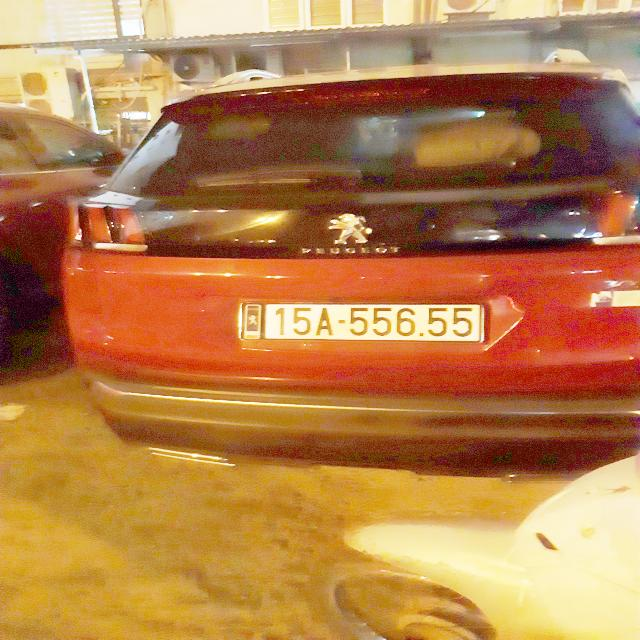license_plate: (236, 299, 495, 350)
